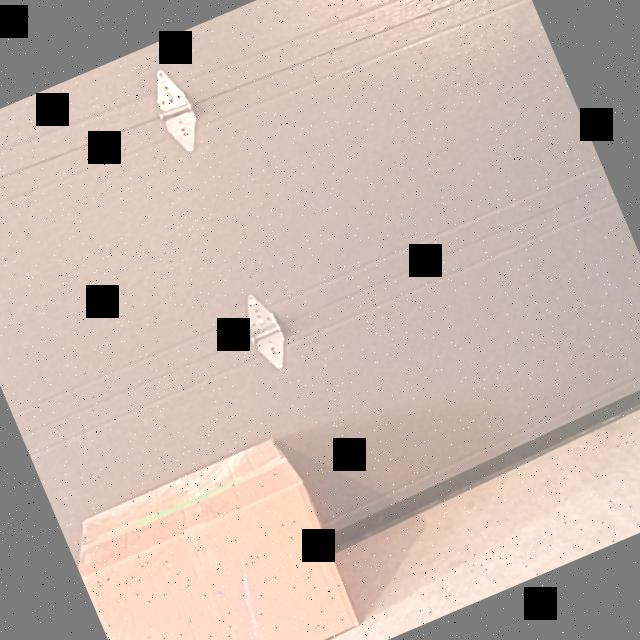box: (81, 482, 363, 640)
